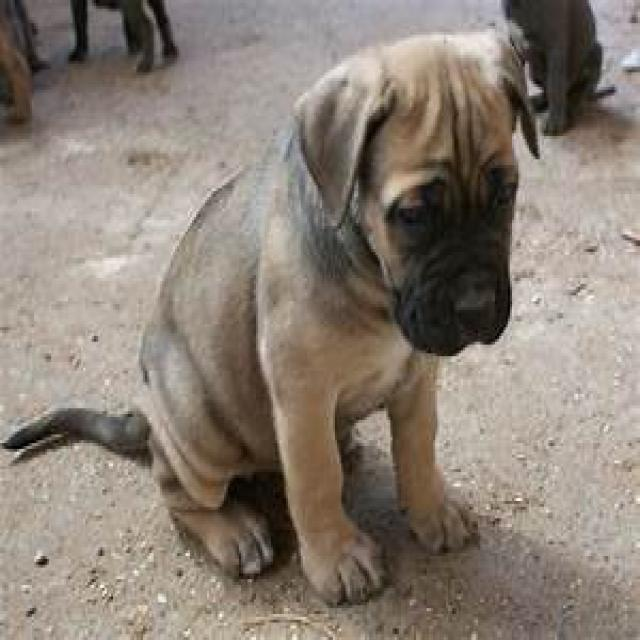dog: (4, 23, 544, 608)
